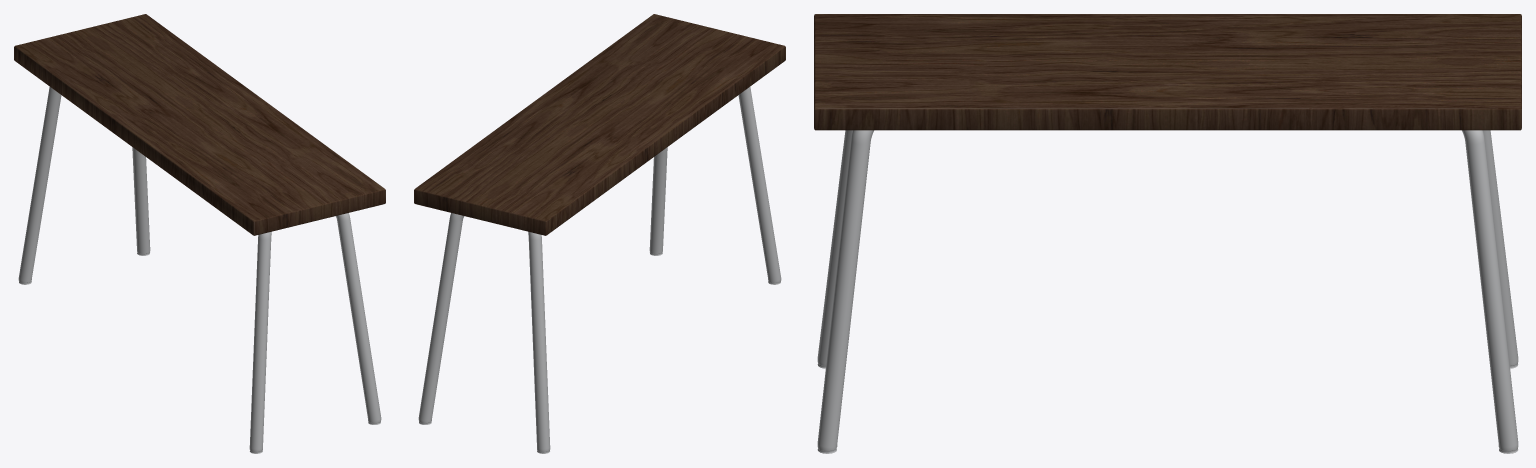
File: wooden_table01.glb
3 views of the same model, side by side, from view 1: azimuth 30°, elevation 25°; view 2: azimuth 150°, elevation 25°; view 3: azimuth 270°, elevation 25° (orthographic). The views are drawn at different scales.
Parts seen in each view (by area): view 1: Object_2; view 2: Object_2; view 3: Object_2.
Boxes of the visible parts, <box> form: Object_2: <box>14,14,385,453</box>; Object_2: <box>414,14,785,453</box>; Object_2: <box>814,14,1521,453</box>.
Size of the model in its own units: 0.6365 by 1.08 by 2.
Materials: 1 (1 with a texture image).
